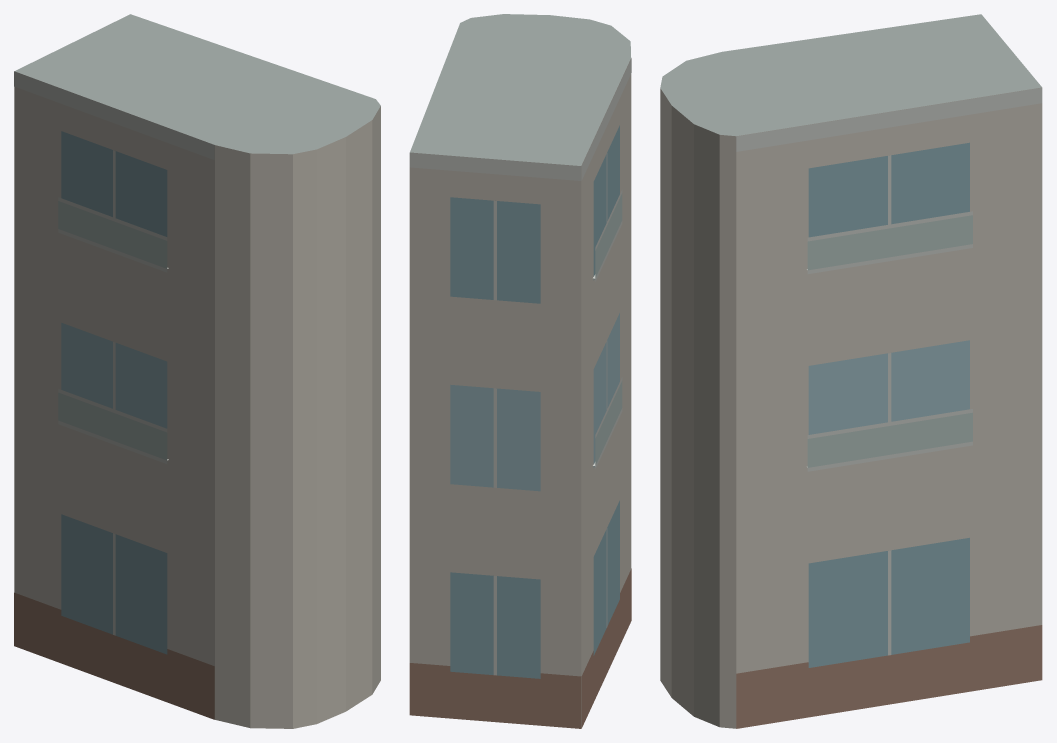
The model's file is survey-upis-32949139.glb.
The picture shows the model from 3 angles, left to right: view 1: azimuth 30°, elevation 25°; view 2: azimuth 150°, elevation 25°; view 3: azimuth 270°, elevation 25°; orthographic projection. The views are drawn at different scales.
Visible parts, largest first — view 1: survey-upis-32949139.tmp; view 2: survey-upis-32949139.tmp; view 3: survey-upis-32949139.tmp.
Boxes of the visible parts, x1,y1,x2,y2 form: survey-upis-32949139.tmp: (14, 14, 380, 728); survey-upis-32949139.tmp: (409, 14, 631, 728); survey-upis-32949139.tmp: (660, 14, 1042, 728).
Size of the model in its own units: 4.05 by 9.15 by 5.35.
